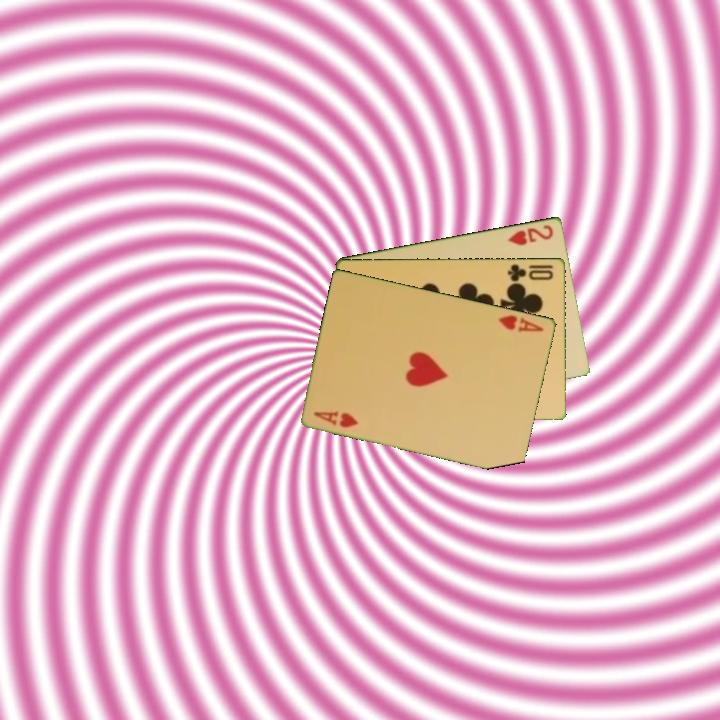10c: (504, 261, 556, 284)
2h: (505, 221, 556, 248)
Ah: (495, 311, 547, 335), (310, 407, 362, 430)
